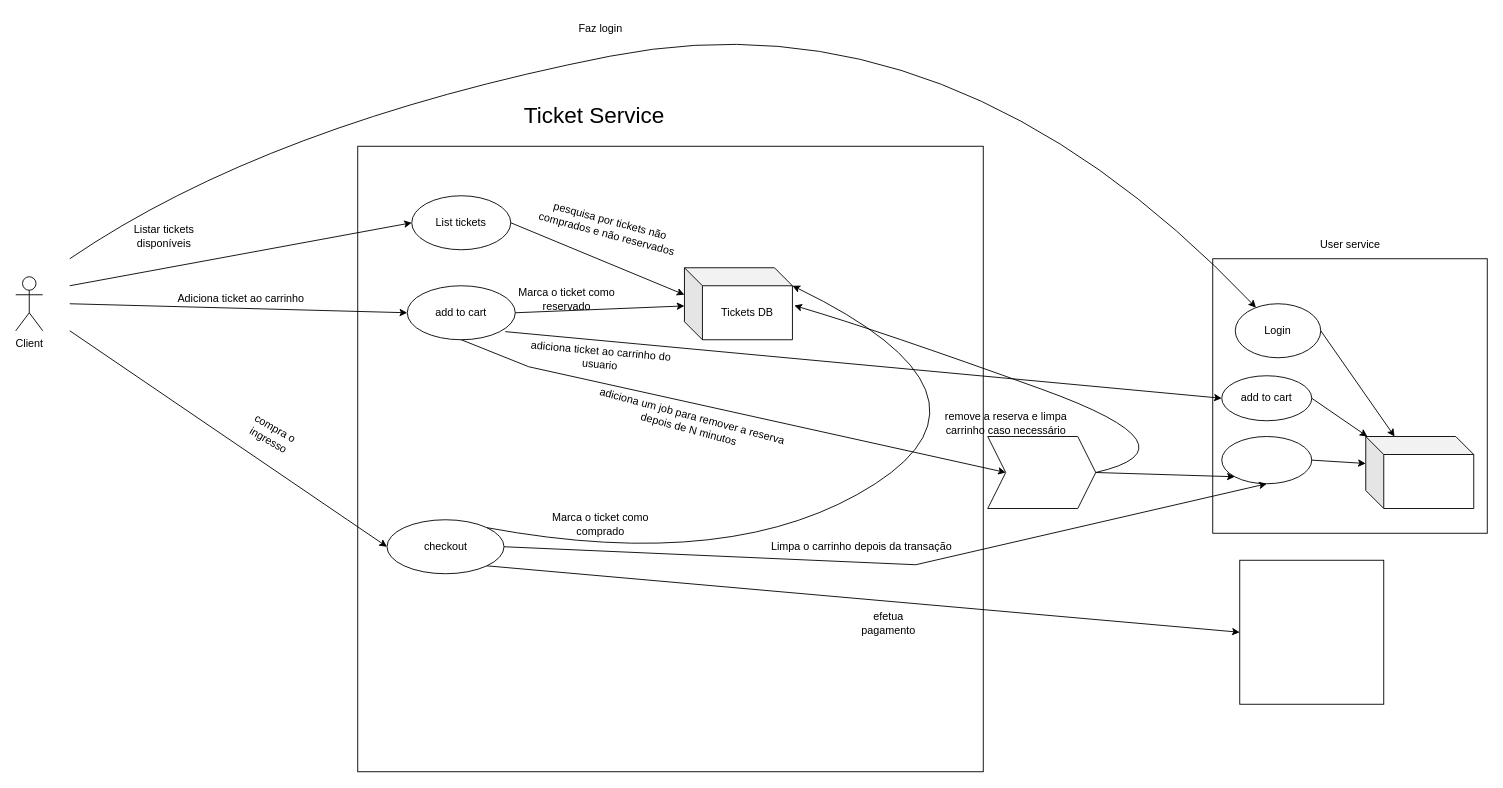
Some shapes in this 1503 by 788 pixel diagram are drawn without their labels. The shapes that lost their labels are listed below. From the top down, each one's box as (x1, y1, x2, y2) in pixels, then its label:
(987, 436, 1096, 508): TIcket Queue
(1221, 436, 1312, 484): clear cart
(1365, 436, 1474, 508): User DB
(1239, 559, 1384, 704): Payment service
